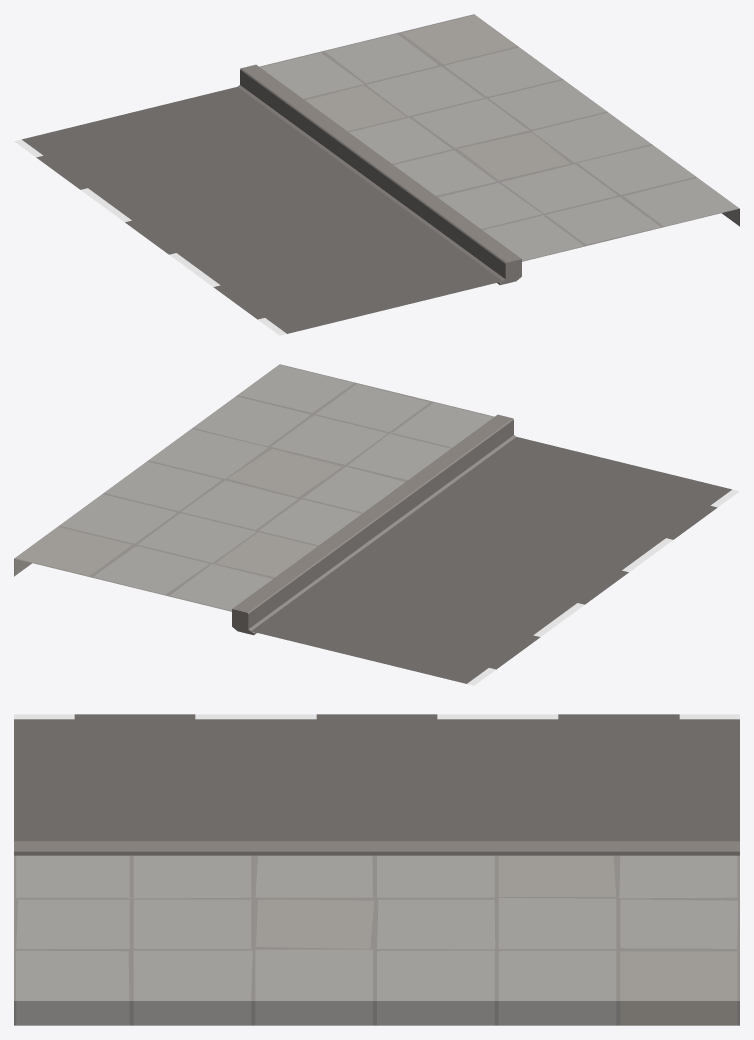
File: Road_02.fbx
The picture shows the model from 3 angles, top to bottom: view 1: azimuth 30°, elevation 25°; view 2: azimuth 150°, elevation 25°; view 3: azimuth 270°, elevation 25°; orthographic projection. The views are drawn at different scales.
Visible parts, largest first — view 1: Road_02; view 2: Road_02; view 3: Road_02.
Part boxes in pixels (x1=…): Road_02: x1=14, y1=14, x2=739, y2=335; Road_02: x1=14, y1=364, x2=739, y2=685; Road_02: x1=14, y1=714, x2=739, y2=1025.
Size of the model in its own units: 600 by 600 by 26.04.
